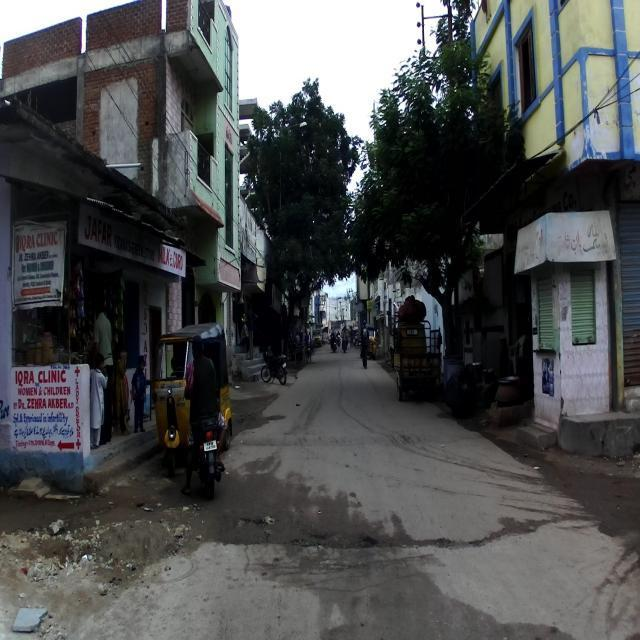Pothole: (163, 487, 380, 575), (382, 482, 553, 587), (29, 496, 159, 588)
